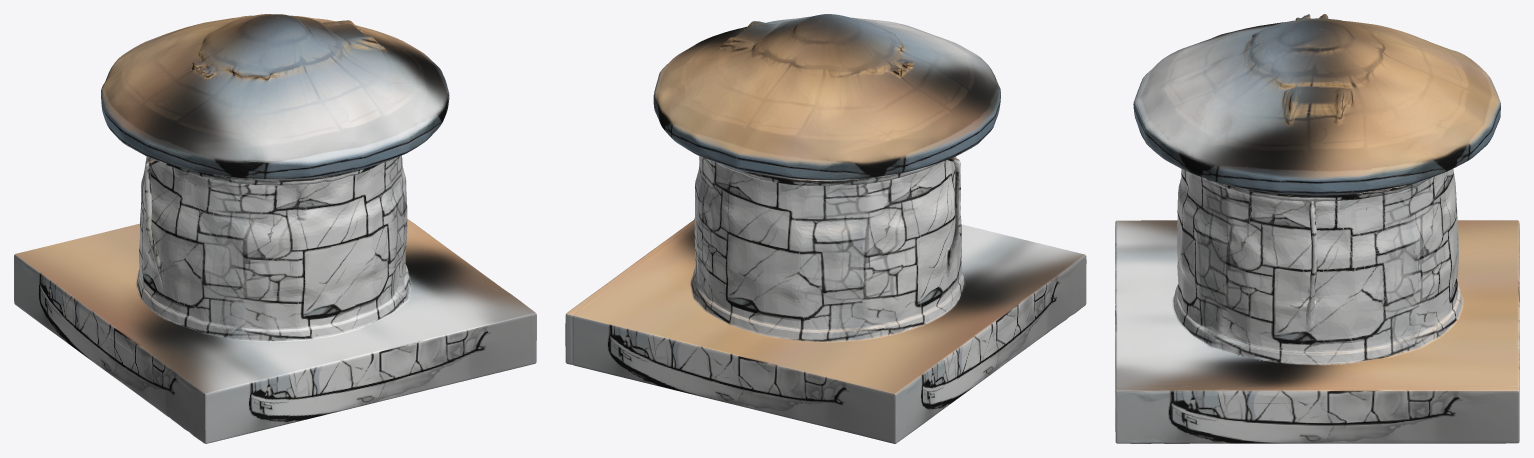
File: well.glb
The picture shows the model from 3 angles, left to right: view 1: azimuth 30°, elevation 25°; view 2: azimuth 150°, elevation 25°; view 3: azimuth 270°, elevation 25°; orthographic projection. The views are drawn at different scales.
Parts seen in each view (by area): view 1: well; view 2: well; view 3: well.
Boxes of the visible parts, x1=… form: well: x1=14, y1=14, x2=536, y2=443; well: x1=565, y1=14, x2=1086, y2=443; well: x1=1115, y1=14, x2=1519, y2=443.
Bounding box in the file's own units: 2.98 × 2.7 × 2.97.
1 material, 1 textured.
